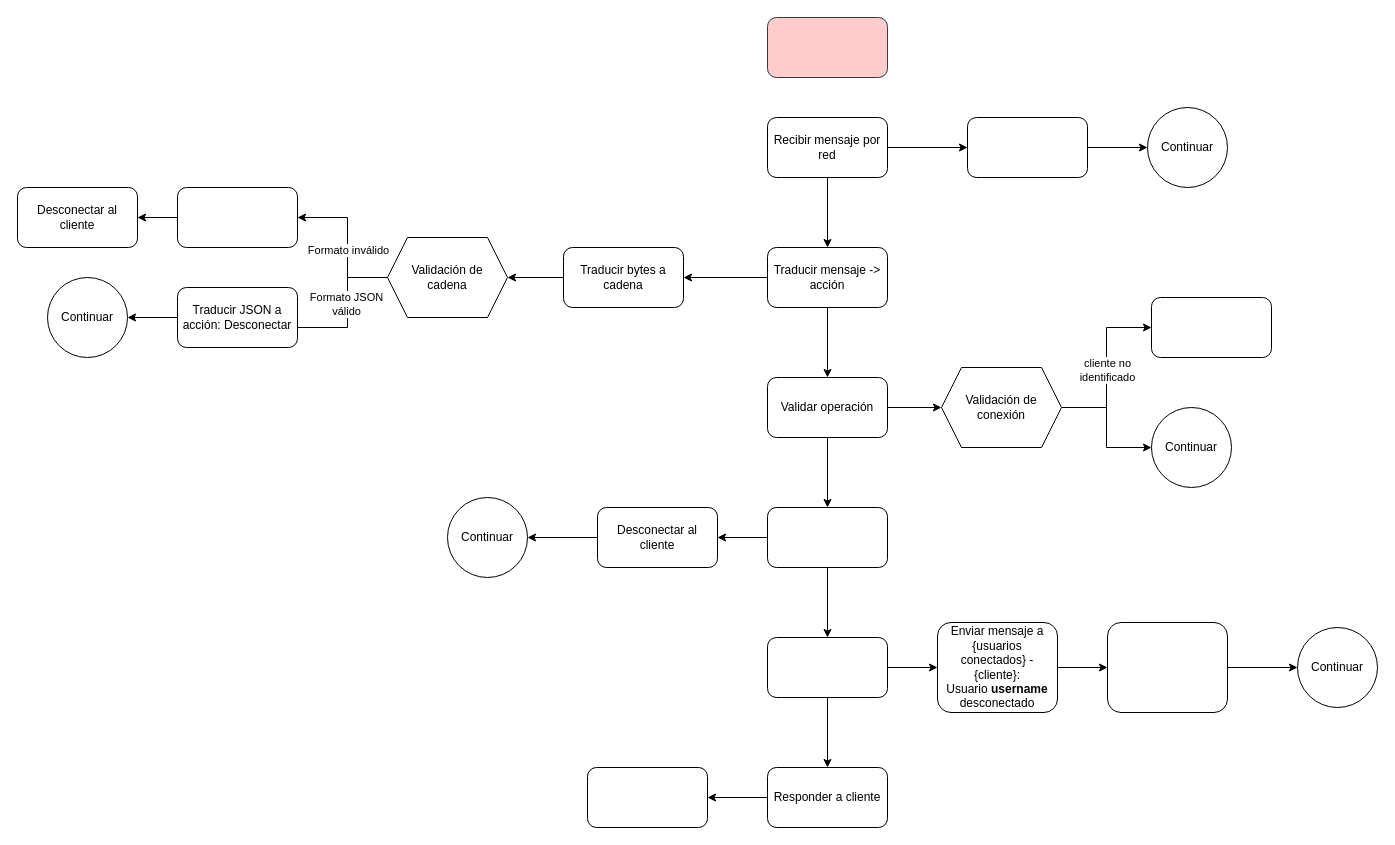
This 1395x845 diagram has some shape labels left out. Each missing label, with the box of its shape:
Acción Desconectar: (766, 506, 888, 568)
Enviar mensaje a {salas donde está el cliente}: Usuario username desconectado: (1106, 622, 1228, 712)
Extraer bytes del mensaje: (966, 116, 1088, 178)
Notificar a usuarios: (766, 636, 888, 698)
Responder a cliente: operación inválida: (176, 186, 298, 248)
Responder a cliente: operación inválida, usuario no identificado: (1150, 296, 1272, 358)
Servidor: Desconectar: (766, 16, 888, 78)
Sin respuesta al cliente: (586, 766, 708, 828)
